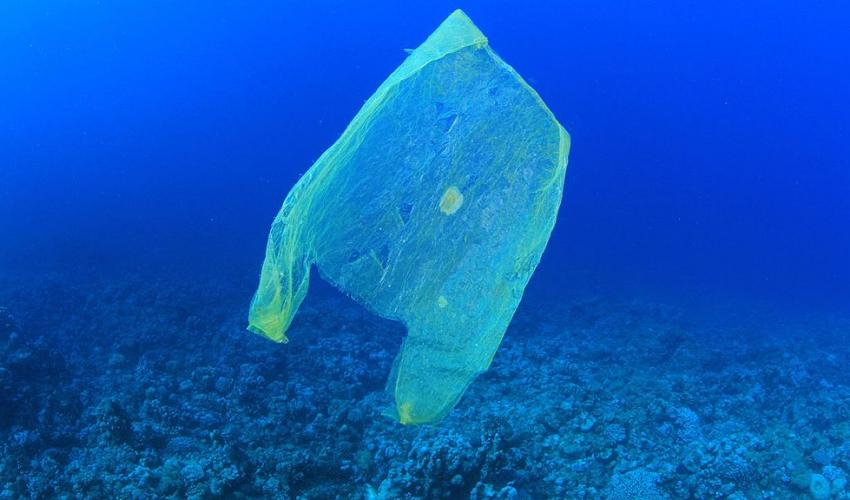plastic_bagwdw: (193, 3, 617, 499)
